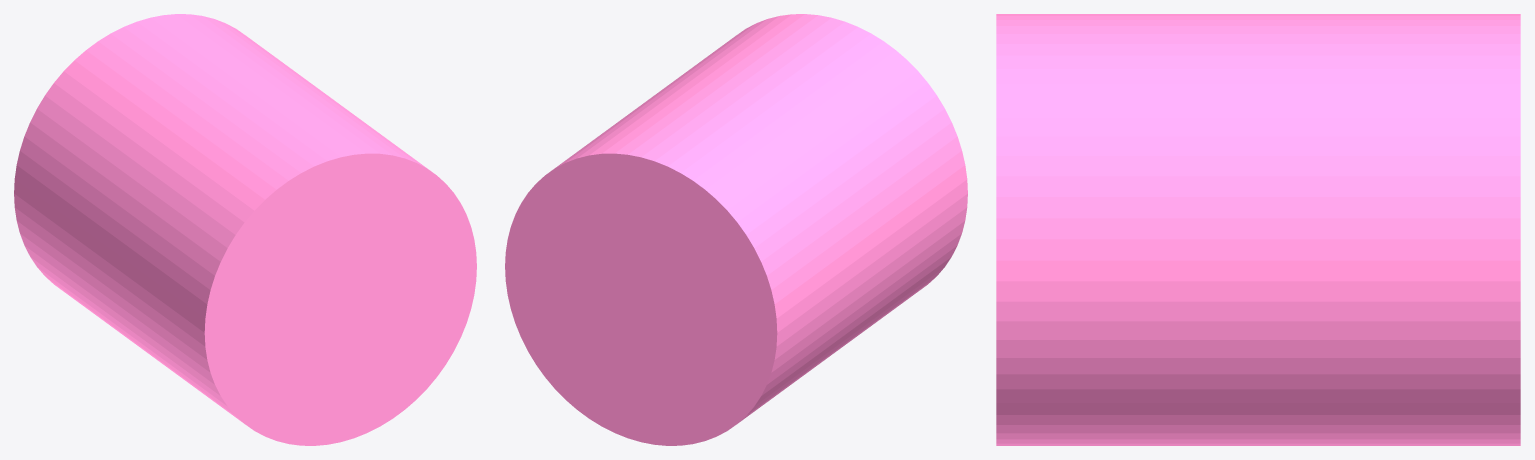
File: tabung.glb
3 views of the same model, side by side, from view 1: azimuth 30°, elevation 25°; view 2: azimuth 150°, elevation 25°; view 3: azimuth 270°, elevation 25° (orthographic). The views are drawn at different scales.
Parts seen in each view (by area): view 1: tabung; view 2: tabung; view 3: tabung.
Part boxes in pixels (x1,y1,x2,y2): tabung: (14, 14, 476, 445); tabung: (505, 14, 967, 445); tabung: (996, 14, 1520, 445).
Bounding box in the file's own units: 1.36 × 1.36 × 1.65.
